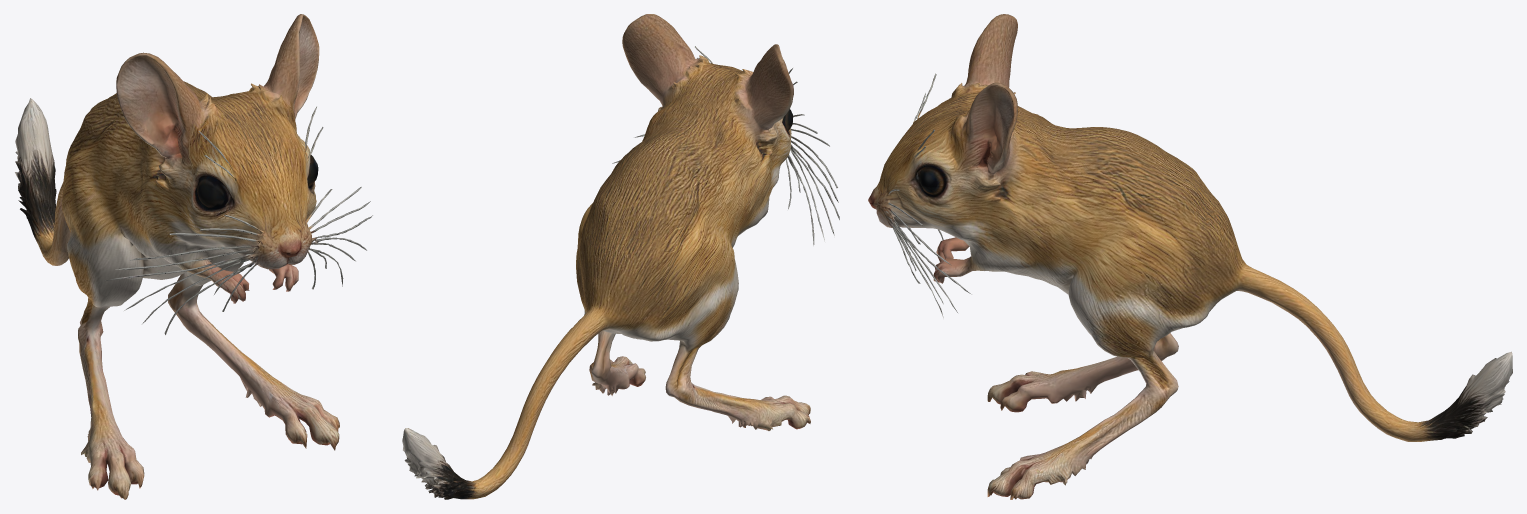
File: jerboa.glb
The picture shows the model from 3 angles, left to right: view 1: azimuth 30°, elevation 25°; view 2: azimuth 150°, elevation 25°; view 3: azimuth 270°, elevation 25°; orthographic projection. The views are drawn at different scales.
Visible parts, largest first — view 1: tripo_node_fda1a2ab-5868-465c-98ad-6ba0d58afcaf; view 2: tripo_node_fda1a2ab-5868-465c-98ad-6ba0d58afcaf; view 3: tripo_node_fda1a2ab-5868-465c-98ad-6ba0d58afcaf.
Boxes of the visible parts, <box> form: tripo_node_fda1a2ab-5868-465c-98ad-6ba0d58afcaf: <box>15,14,372,499</box>; tripo_node_fda1a2ab-5868-465c-98ad-6ba0d58afcaf: <box>402,14,839,499</box>; tripo_node_fda1a2ab-5868-465c-98ad-6ba0d58afcaf: <box>868,14,1512,499</box>.
Bounding box in the file's own units: 0.4454 × 0.6864 × 1.
Materials: 1 (1 with a texture image).
